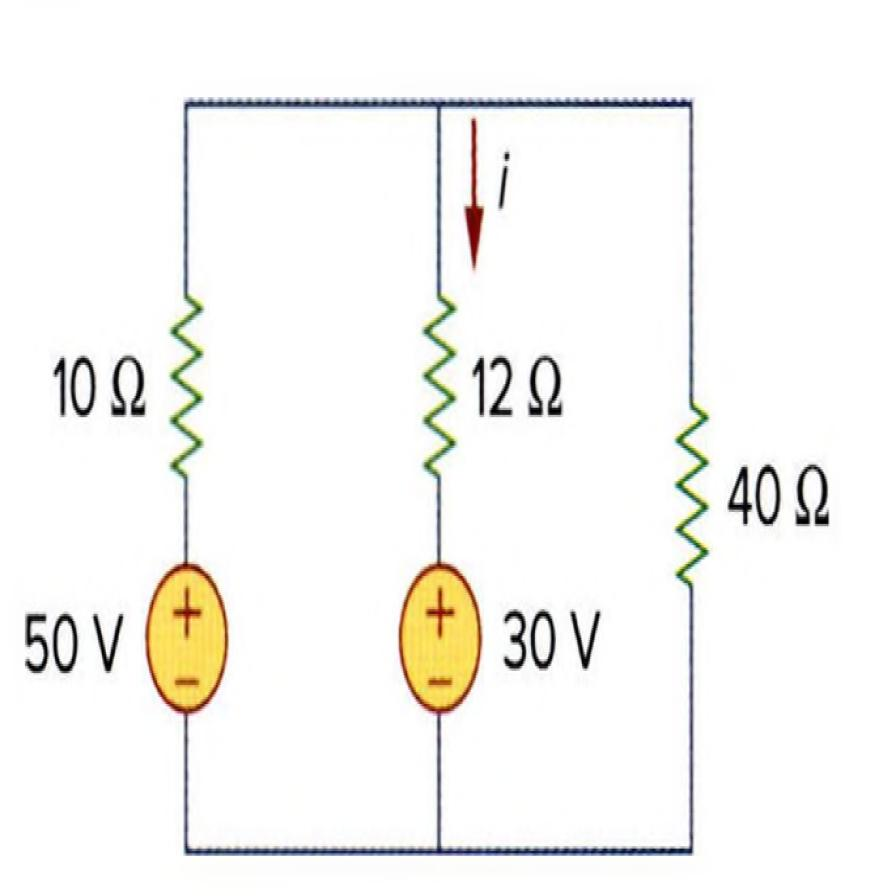R2: (152, 268, 223, 506), (658, 385, 720, 603), (406, 277, 465, 502)
V1: (129, 550, 240, 730), (394, 555, 490, 733)
